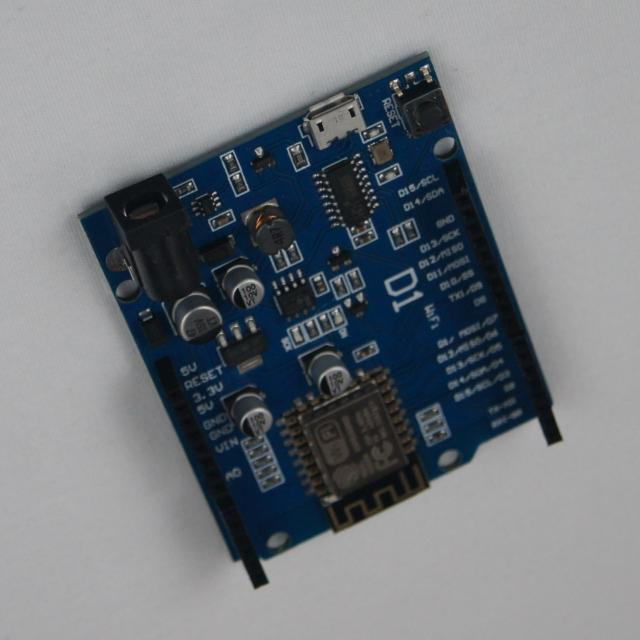Arduino Uno WiFi Shield: (81, 54, 562, 588)
